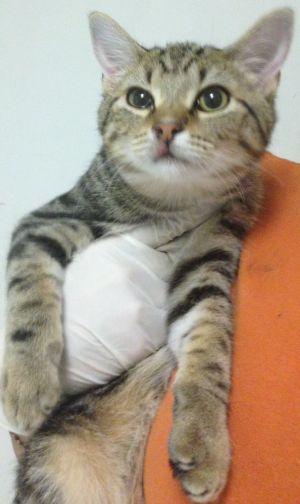bengal: (70, 1, 300, 205)
